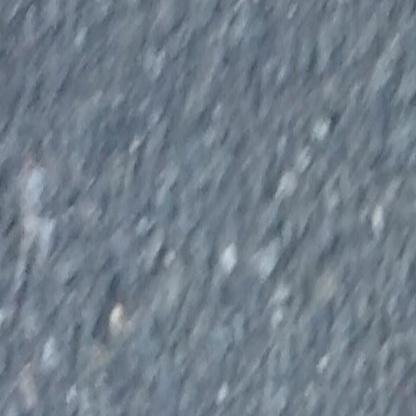Cracks: (407, 0, 416, 100), (412, 257, 416, 409)
